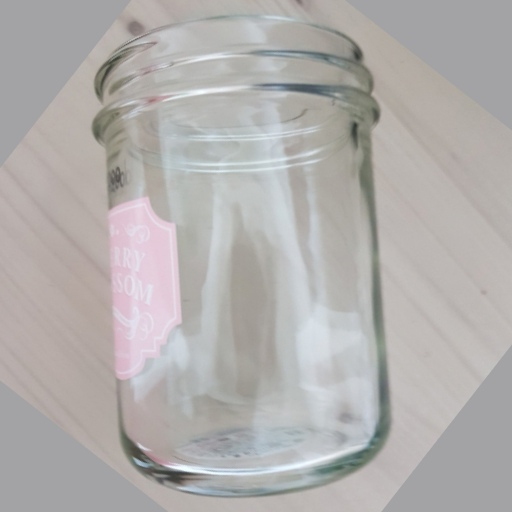Glass_5: (90, 13, 394, 494)
